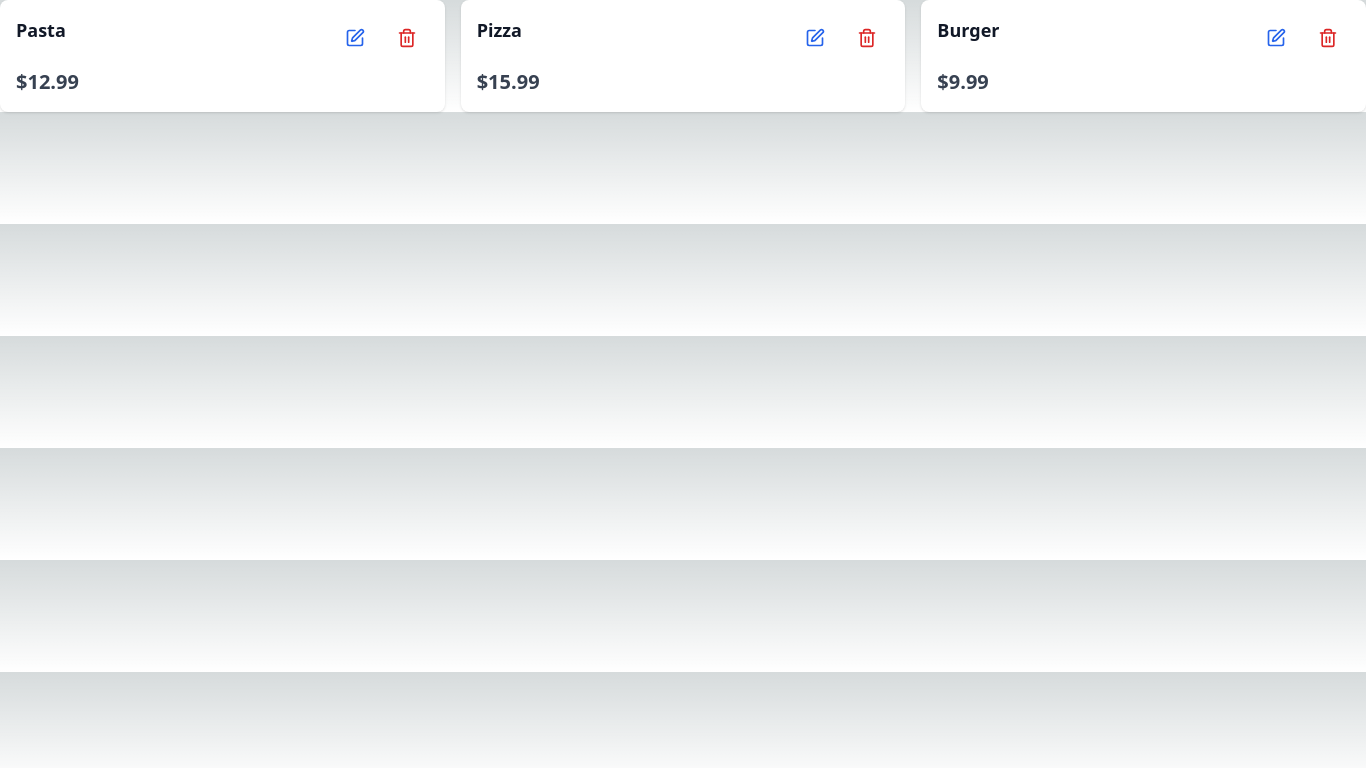
MenuList › cancels delete when cancel button is clicked
The image size is (1366, 768).
Step 1. Click the button named "delete" → (407, 38), box [385,16,429,60]
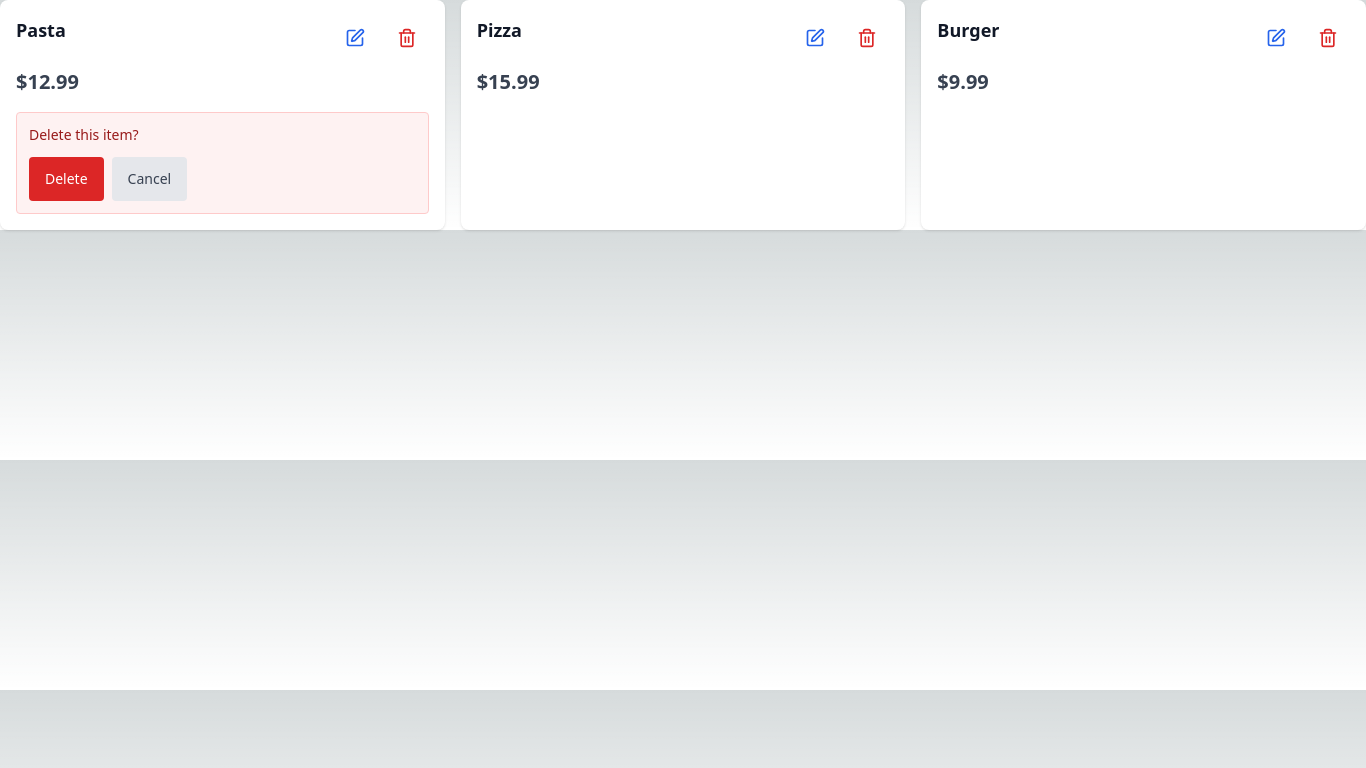
Step 2. Click the button "Cancel" → (149, 179), box [112,157,187,201]
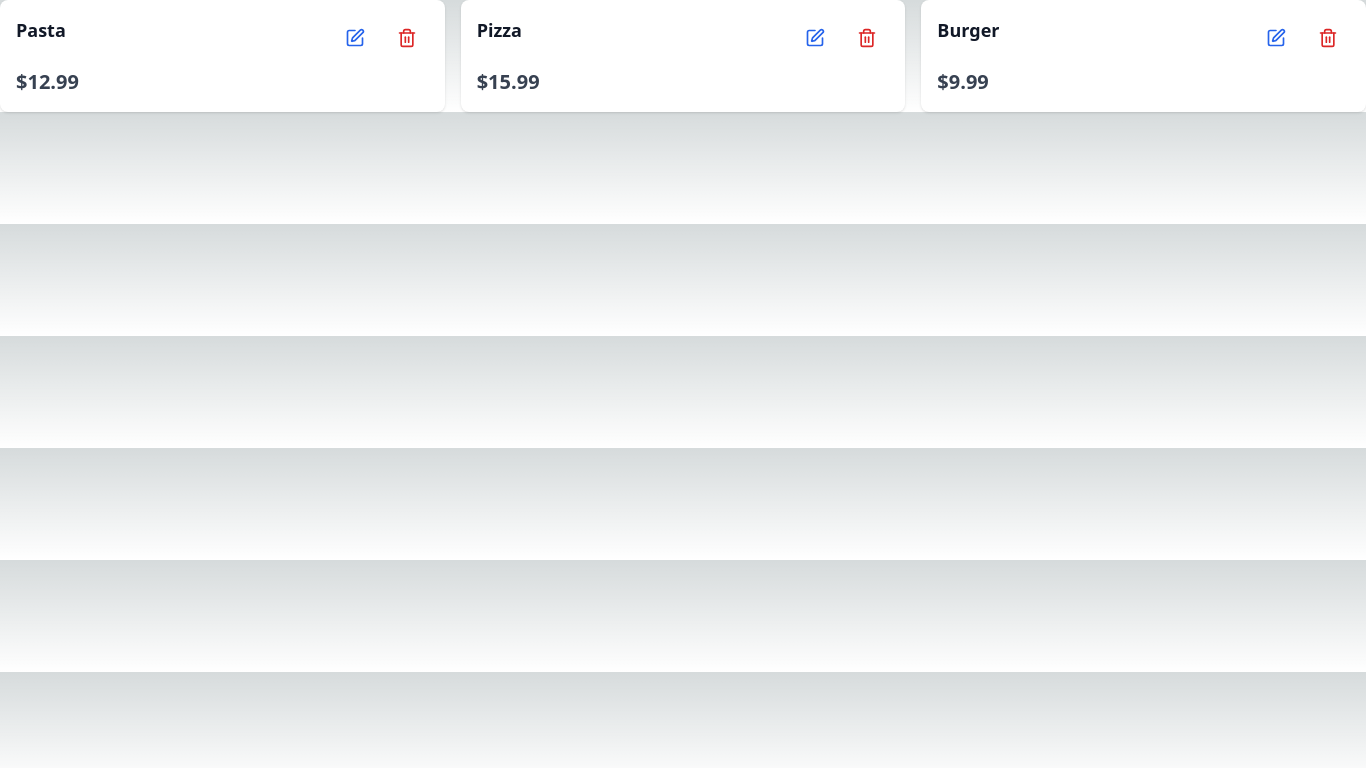
Expected: the text "Delete this item" is gone
